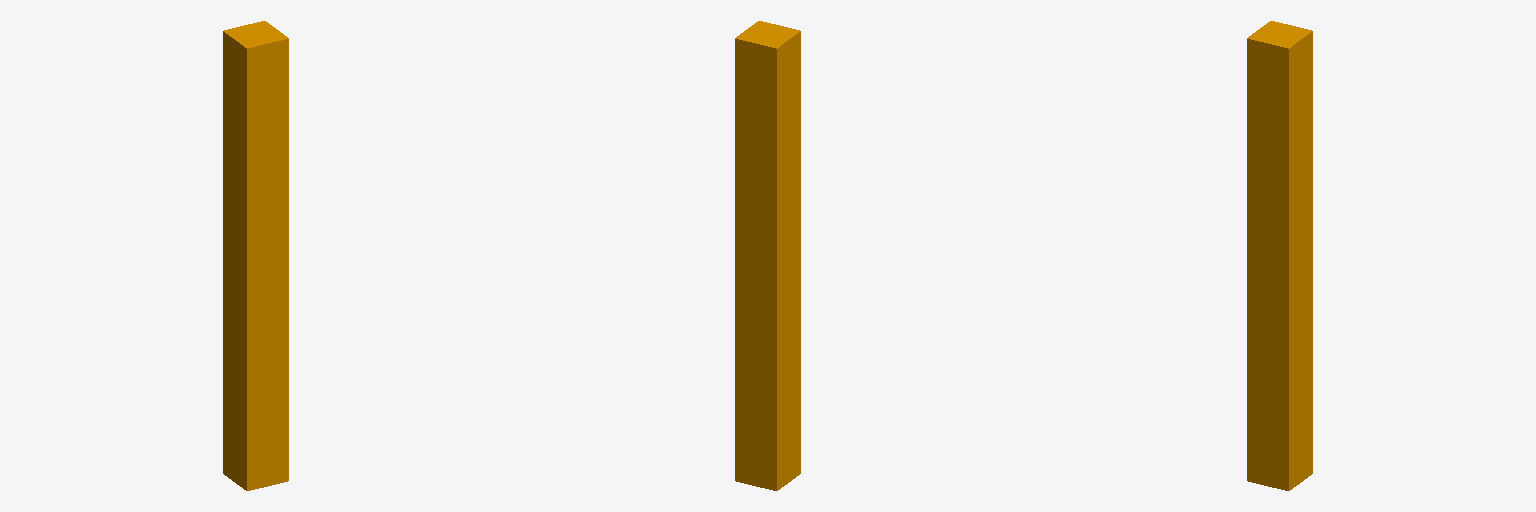
URDF robot description (simple_box):
<robot name="simple_box">
  <link name="my_box">
    <inertial>
      <origin xyz="8 -6.5 0" />
      <mass value="1.0" />
      <inertia  ixx="1.0" ixy="0.0"  ixz="0.0"  iyy="1.0"  iyz="0.0"  izz="1.0" />
    </inertial>
    <visual>
      <origin xyz="8 -6.5 0"/>
      <geometry>
        <box size="0.2 0.2 2" />
      </geometry>
    </visual>
    <collision>
      <origin xyz="8 -6.5 0"/>
      <geometry>
        <box size="0.2 0.2 2" />
      </geometry>
    </collision>
  </link>
  <gazebo reference="my_box">
    <material>Gazebo/Green</material>
    <static>true</static>
    <turnGravityOff>true</turnGravityOff>
  </gazebo>
</robot>

--- What the picture shows (computed from the rendered views, not written in the file) ---
The picture shows the robot from 3 angles, left to right: view 1: azimuth 30°, elevation 25°; view 2: azimuth 150°, elevation 25°; view 3: azimuth 330°, elevation 25°; orthographic projection.
Robot: simple_box — 1 links, 0 joints (none); root link my_box; default pose: every joint at zero.
Links seen in each view (by area): view 1: my_box; view 2: my_box; view 3: my_box.
Link boxes in pixels (<box>): my_box: <box>223,21,288,490</box>; my_box: <box>735,21,800,490</box>; my_box: <box>1247,21,1312,490</box>.
Bounding box of the posed robot: 0.2 × 0.2 × 2 m (x, y, z).
Geometry: primitives only (box / cylinder / sphere), no mesh files.